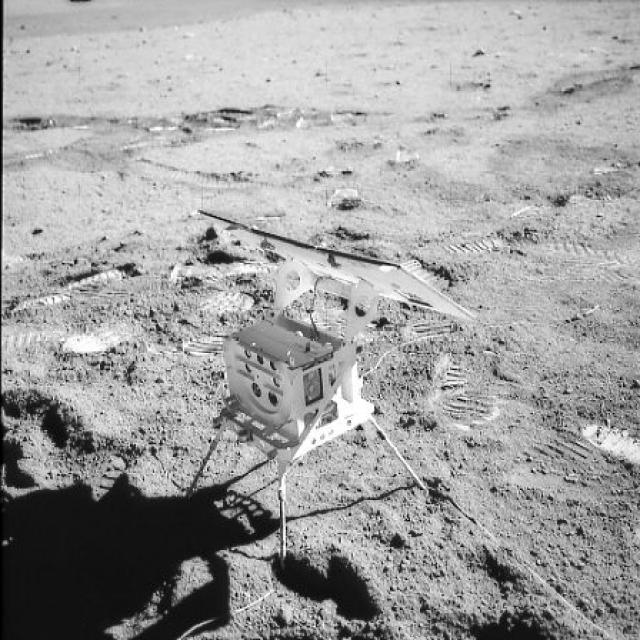artifact: (165, 196, 454, 559)
crater: (136, 99, 375, 140), (3, 101, 91, 141)
